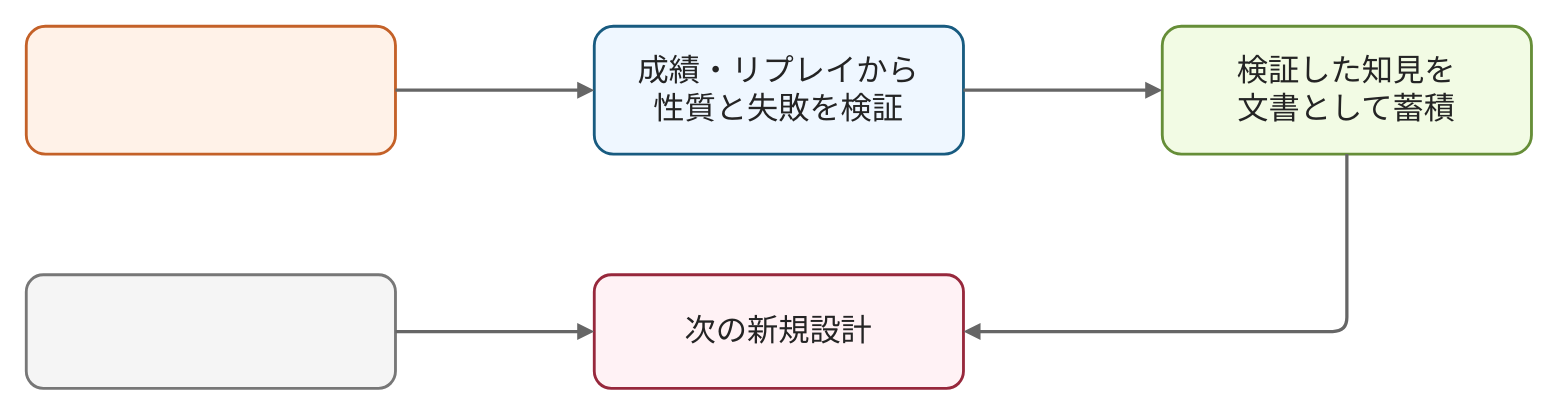
This 1556x413 diagram has some shape labels left out. Each missing label, with the centre of its shape:
問題・公開仕様: point 210,331
独立した案で 実装・実験する: point 210,89
